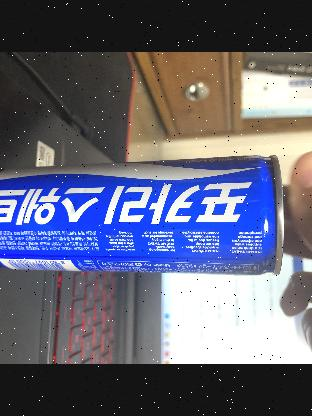Can: (0, 155, 288, 278)
